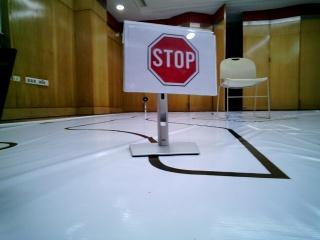stop: (133, 31, 215, 91)
